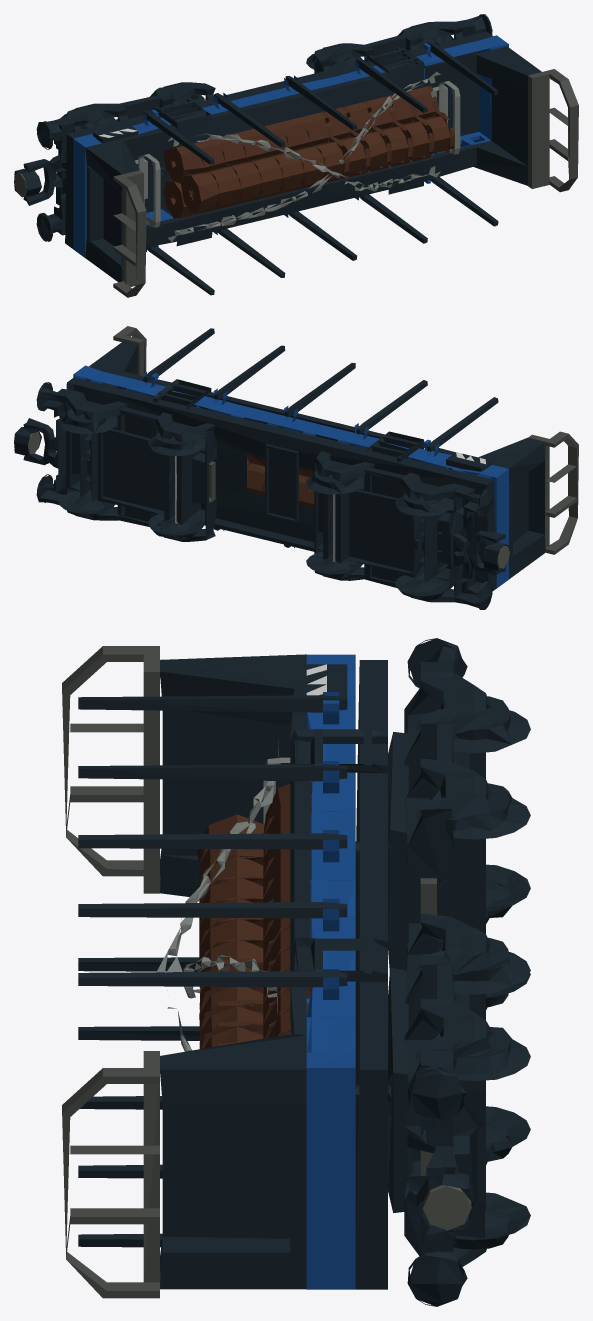
The model's file is open-freight-wagon.glb.
3 renders of one model, top to bottom at view 1: azimuth 30°, elevation 25°; view 2: azimuth 150°, elevation 25°; view 3: azimuth 270°, elevation 25°, orthographic. The views are drawn at different scales.
Bounding box in the file's own units: 219 × 59.45 × 92.02.
